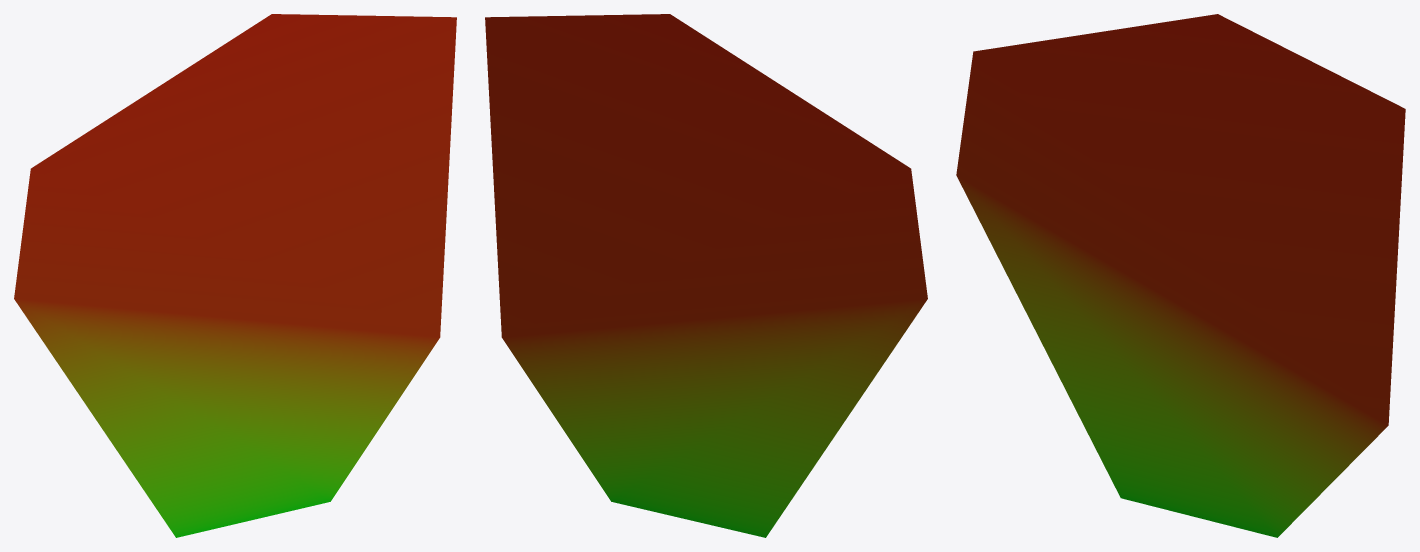
File: Goldenrods_LOD7_Var6.fbx
The picture shows the model from 3 angles, left to right: view 1: azimuth 30°, elevation 25°; view 2: azimuth 150°, elevation 25°; view 3: azimuth 330°, elevation 25°; orthographic projection.
Parts seen in each view (by area): view 1: _svg1_Var6_LOD7; view 2: _svg1_Var6_LOD7; view 3: _svg1_Var6_LOD7.
Part boxes in pixels (x1,y1,x2,y2): _svg1_Var6_LOD7: (14, 14, 456, 537); _svg1_Var6_LOD7: (485, 14, 927, 537); _svg1_Var6_LOD7: (956, 14, 1405, 537).
Bounding box in the file's own units: 50.44 × 54.64 × 2.39e-06.
